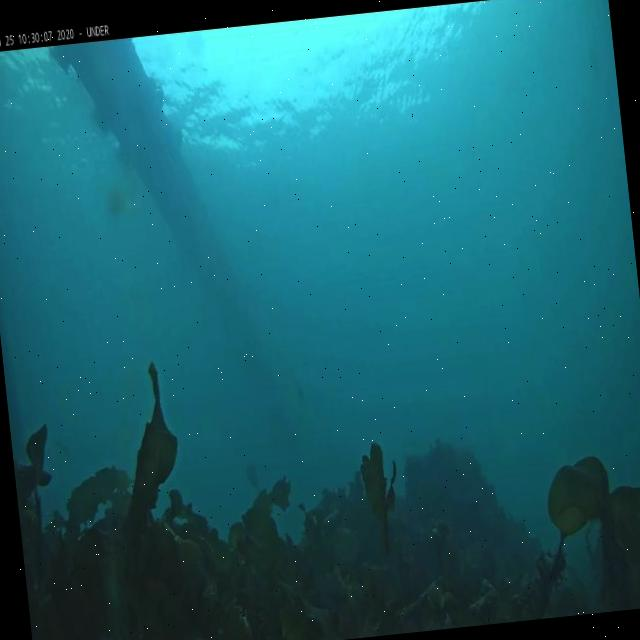fish: (244, 460, 264, 493), (291, 374, 311, 407)
